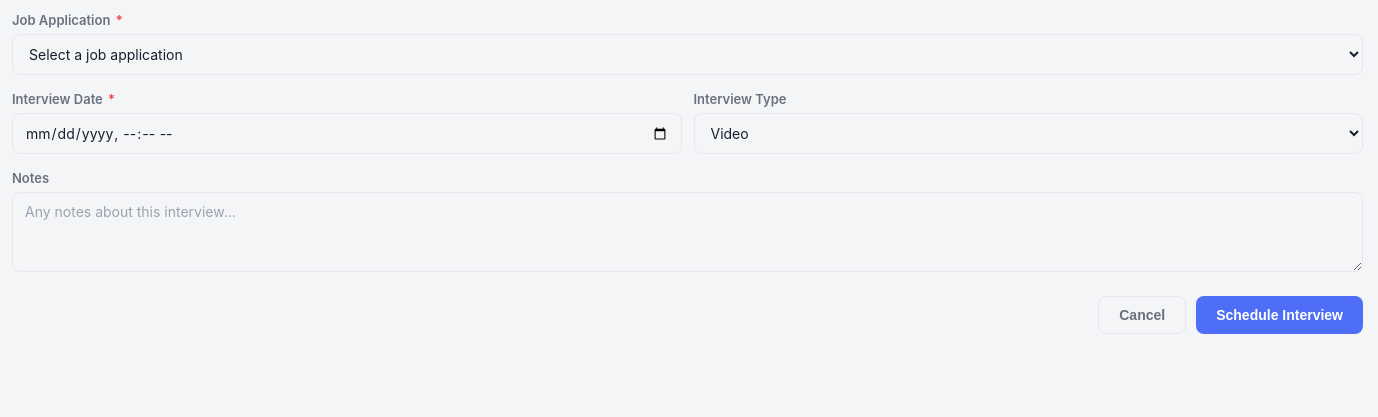
Scenario: InterviewForm › shows validation errors when submitting empty required fields
This screenshot has width=1378, height=417.
Click the button "Schedule Interview" at (1280, 315), box [1196, 296, 1363, 334]
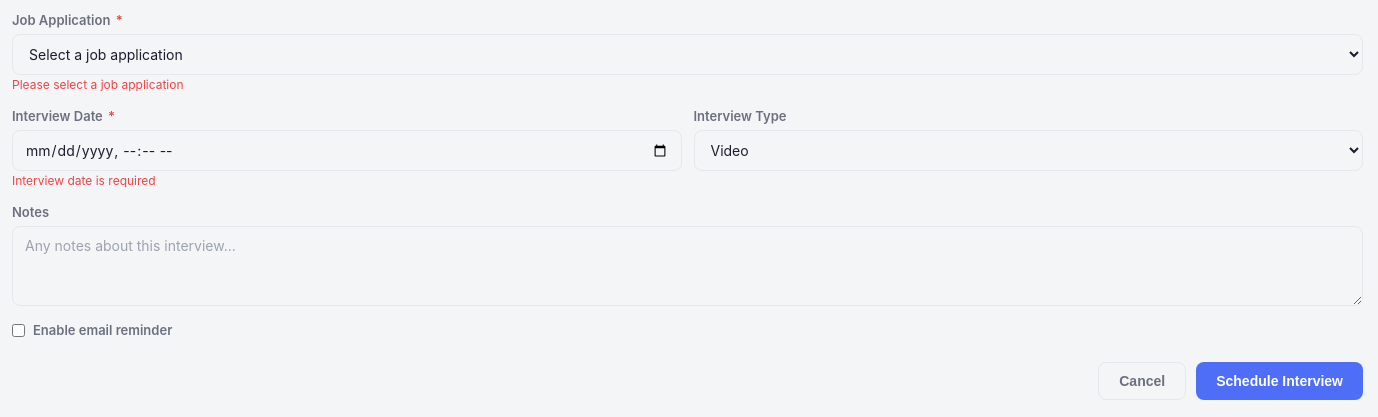
Expected: the text "Please select a job application" is shown, [12, 77, 184, 92]
Expected: the text "Interview date is required" is shown, [12, 173, 156, 188]
